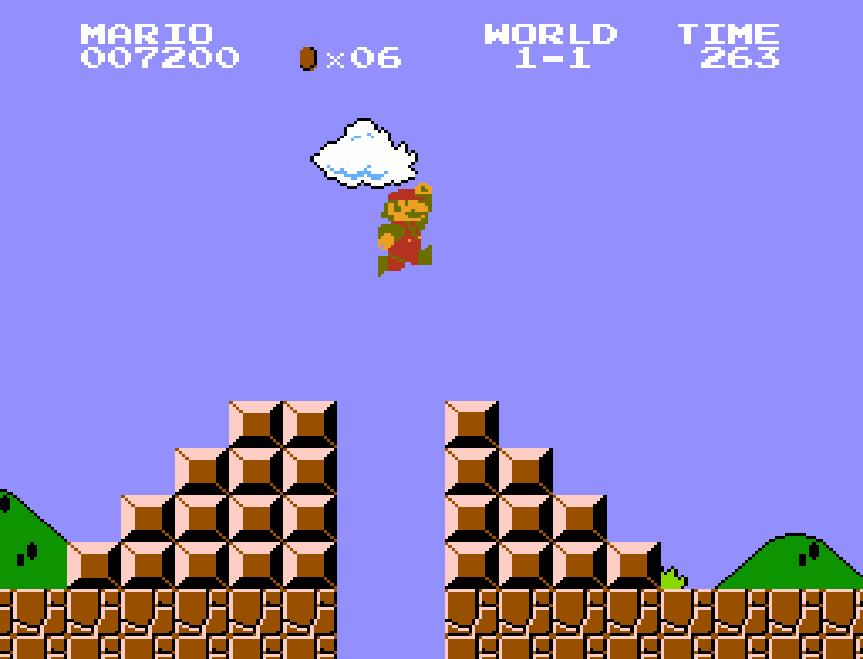big_mario: (376, 180, 434, 278)
